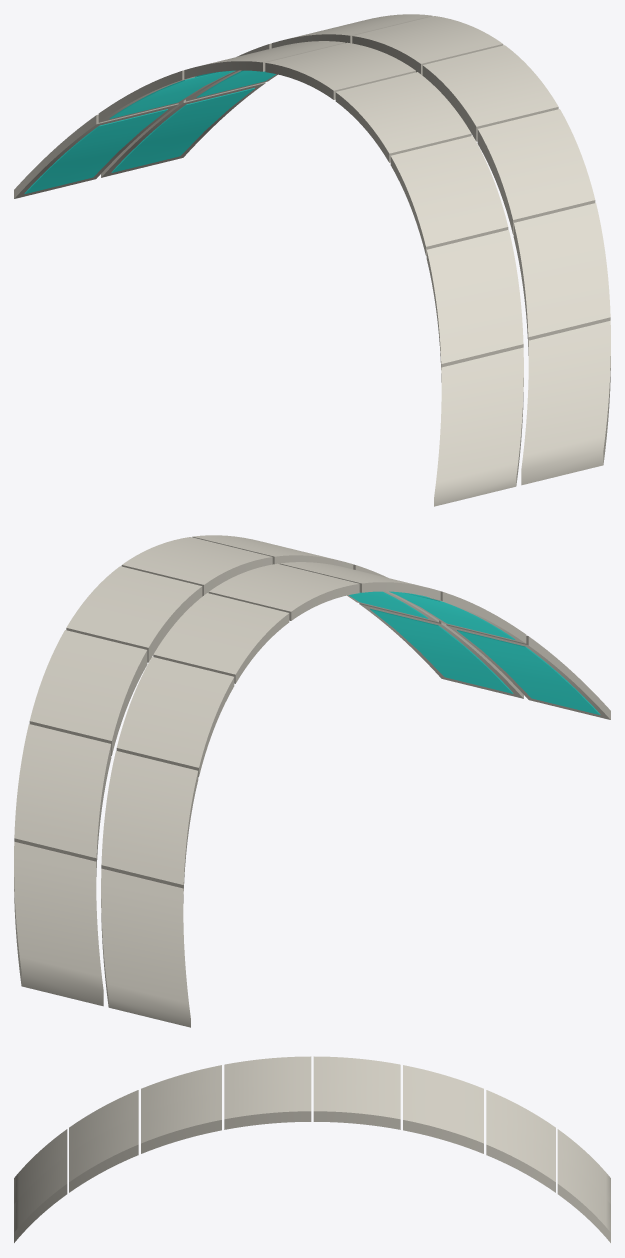
Rendered from Weather_Lung_Chunk_Gills.glb.
3 views of the same model, one above another, from view 1: azimuth 30°, elevation 25°; view 2: azimuth 150°, elevation 25°; view 3: azimuth 270°, elevation 25° (orthographic). The views are drawn at different scales.
Parts seen in each view (by area): view 1: Gill_plate_15, Gill_plate_14, Gill_plate_13, Gill_plate_12, Gills_Structure, Gill_plate_11, Gill_plate_10, Gill_plate_09, Gill_plate_08, Gill_plate_06, Gill_plate_07, Gill_plate_00 (+4 smaller); view 2: Gill_plate_01, Gill_plate_00, Gill_plate_03, Gill_plate_02, Gills_Structure, Gill_plate_05, Gill_plate_04, Gill_plate_07, Gill_plate_06, Gill_plate_08, Gill_plate_09, Gill_plate_14 (+4 smaller); view 3: Gill_plate_07, Gill_plate_09, Gill_plate_05, Gill_plate_11, Gill_plate_03, Gill_plate_13, Gill_plate_06, Gill_plate_08, Gill_plate_04, Gill_plate_10, Gill_plate_01, Gill_plate_15 (+4 smaller).
Part boxes in pixels (x1,y1,x2,y2): Gill_plate_15: (521, 320, 610, 485); Gill_plate_14: (434, 347, 523, 506); Gill_plate_13: (513, 203, 610, 346); Gill_plate_12: (426, 230, 523, 369); Gills_Structure: (24, 70, 275, 193); Gill_plate_11: (477, 109, 595, 234); Gill_plate_10: (390, 136, 508, 255); Gill_plate_09: (422, 45, 558, 141); Gill_plate_08: (335, 72, 471, 162); Gill_plate_06: (265, 42, 415, 99); Gill_plate_07: (352, 16, 503, 75); Gill_plate_00: (14, 103, 178, 198); Gill_plate_01: (14, 841, 103, 1006); Gill_plate_00: (101, 868, 190, 1027); Gill_plate_03: (14, 724, 111, 867); Gill_plate_02: (101, 751, 198, 890); Gills_Structure: (349, 591, 600, 714); Gill_plate_05: (29, 630, 147, 755); Gill_plate_04: (116, 657, 234, 776); Gill_plate_07: (66, 566, 202, 662); Gill_plate_06: (153, 593, 289, 683); Gill_plate_08: (209, 563, 359, 620); Gill_plate_09: (121, 537, 272, 596); Gill_plate_14: (446, 624, 610, 719); Gill_plate_07: (313, 1082, 400, 1129); Gill_plate_09: (224, 1082, 311, 1129); Gill_plate_05: (403, 1091, 483, 1153); Gill_plate_11: (141, 1091, 221, 1153); Gill_plate_03: (486, 1116, 555, 1192); Gill_plate_13: (69, 1116, 138, 1192); Gill_plate_06: (313, 1056, 400, 1090); Gill_plate_08: (224, 1056, 311, 1090); Gill_plate_04: (403, 1065, 483, 1114); Gill_plate_10: (141, 1065, 221, 1114); Gill_plate_01: (557, 1155, 610, 1242); Gill_plate_15: (14, 1155, 67, 1242).
Size of the model in its own units: 2893 by 2371 by 7519.
